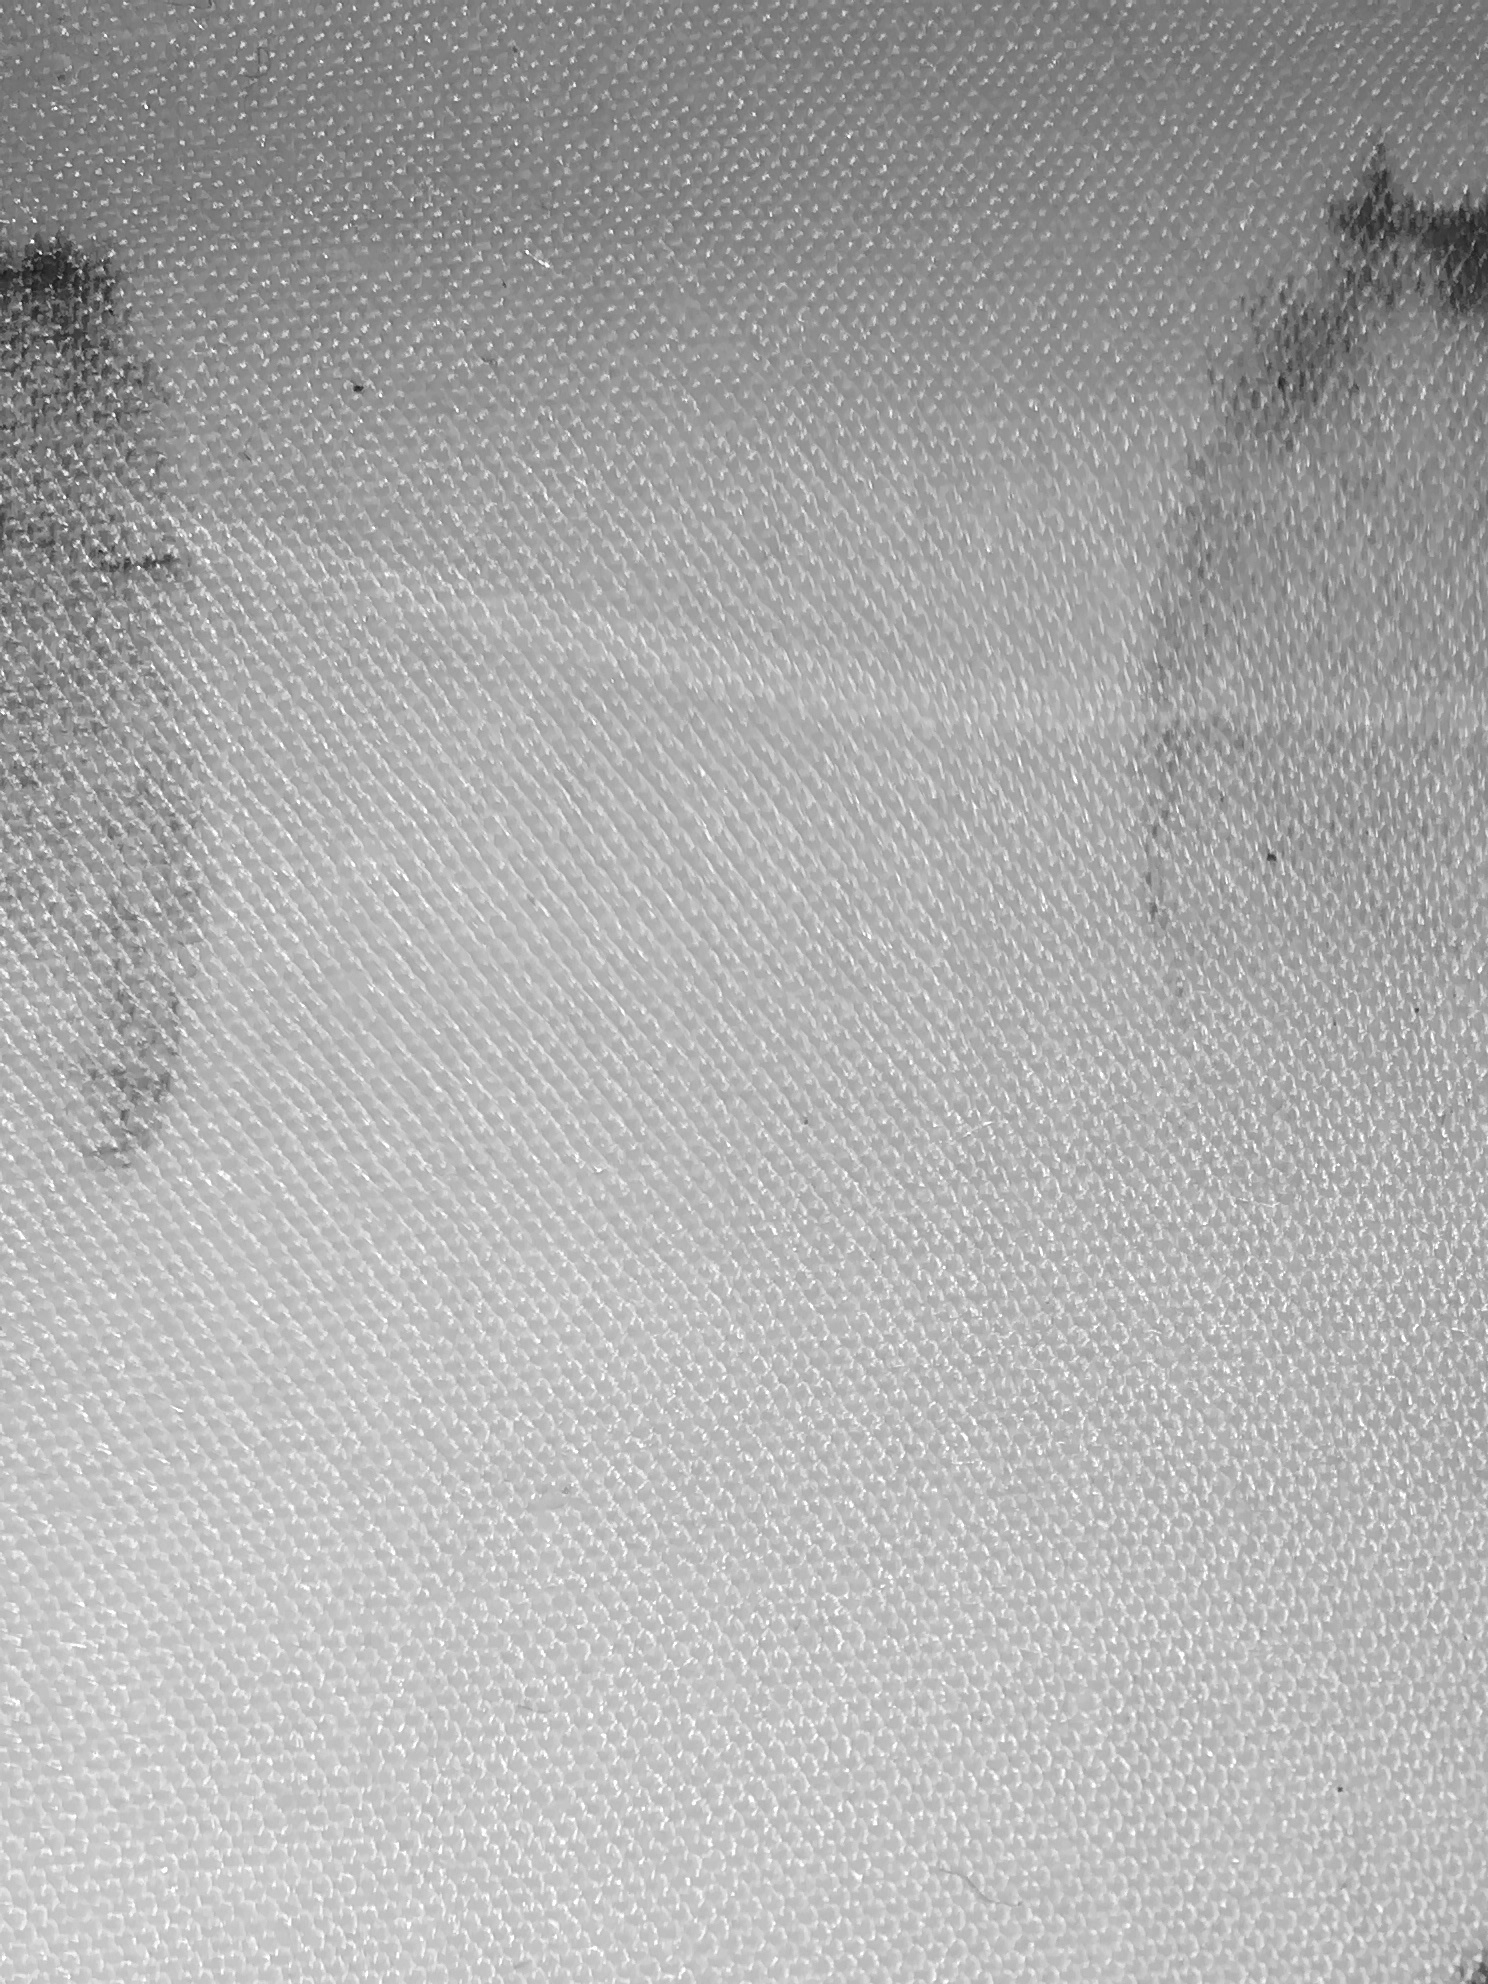Stain: (1007, 109, 1488, 1151), (2, 172, 272, 1203)
